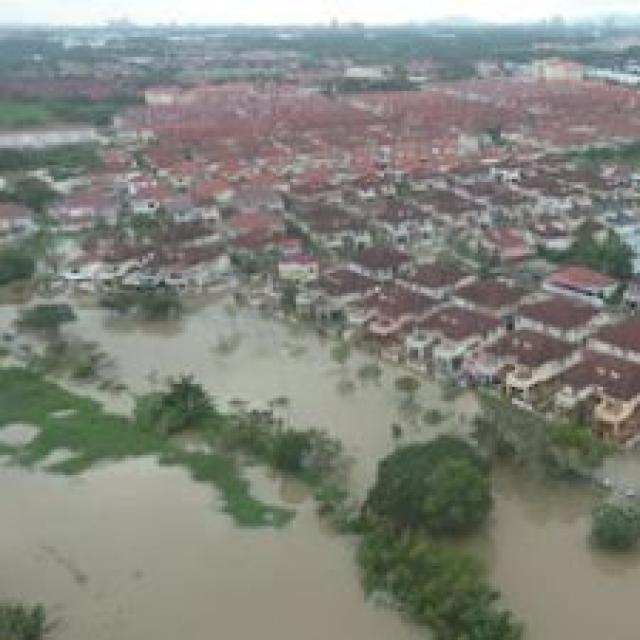flooded_areas: (3, 276, 631, 637)
